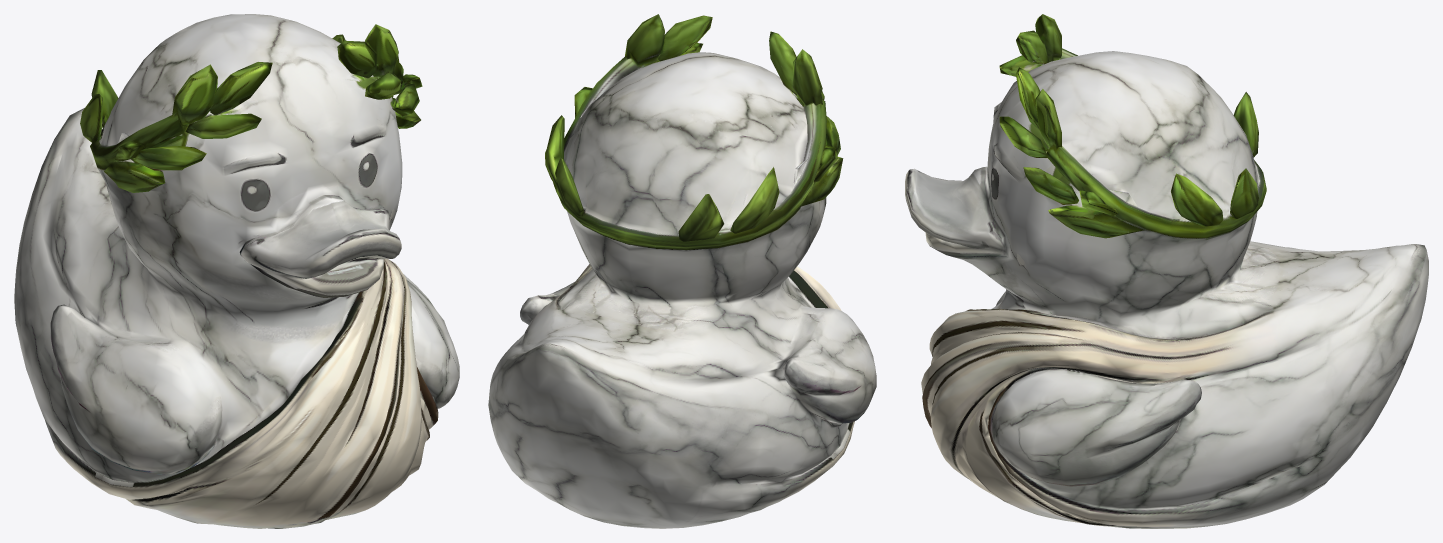
Rendered from FBX_NEW_Estoi.fbx.
3 renders of one model, left to right at view 1: azimuth 30°, elevation 25°; view 2: azimuth 150°, elevation 25°; view 3: azimuth 270°, elevation 25°, orthographic. The views are drawn at different scales.
Parts seen in each view (by area): view 1: temp; view 2: temp; view 3: temp.
Boxes of the visible parts, <box> form: temp: <box>14,14,459,528</box>; temp: <box>488,14,876,528</box>; temp: <box>905,14,1428,528</box>.
Bounding box in the file's own units: 139 × 170 × 191.
Materials: 1 (1 with a texture image).
